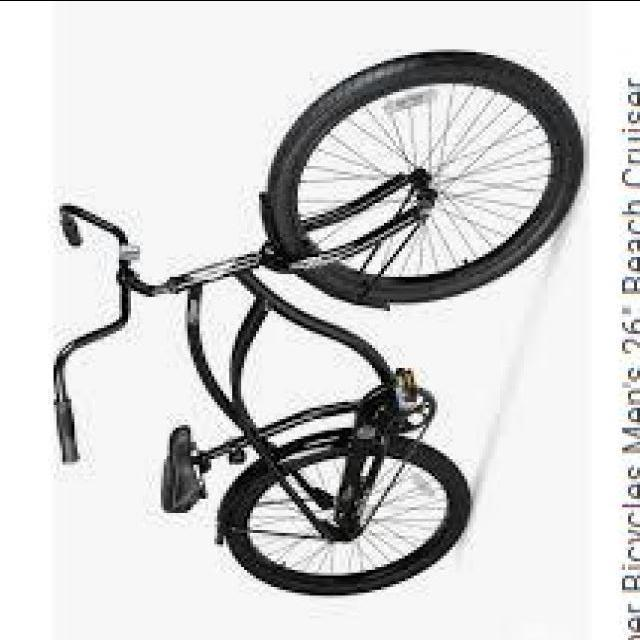bicycle: (46, 69, 558, 604)
